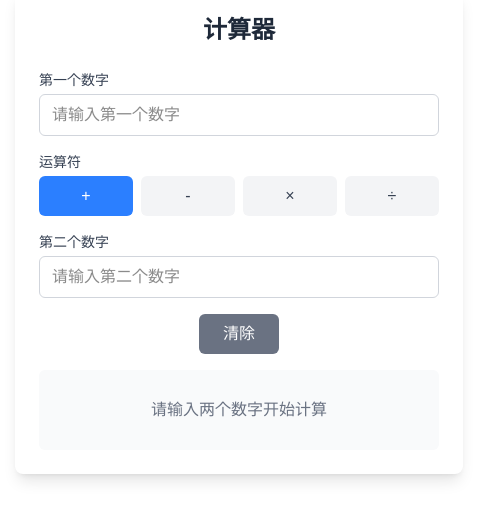
Test: Calculator Component › 应该能够实时执行乘法运算
Type "5" into the number field with placeholder "请输入第一个数字".
click(239, 115); type("5")  # box [39,94,439,136]
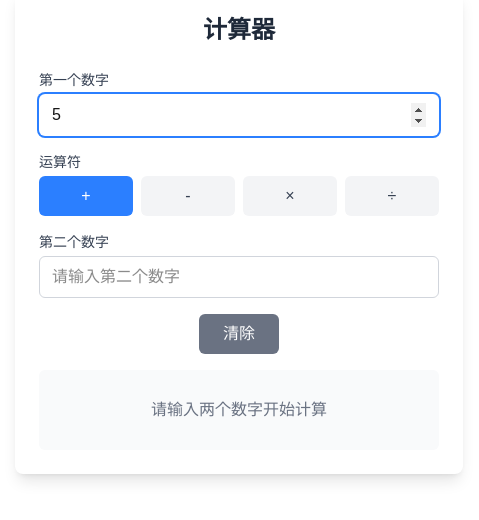
Click the button "×".
click(290, 196)  # box [243,176,337,216]
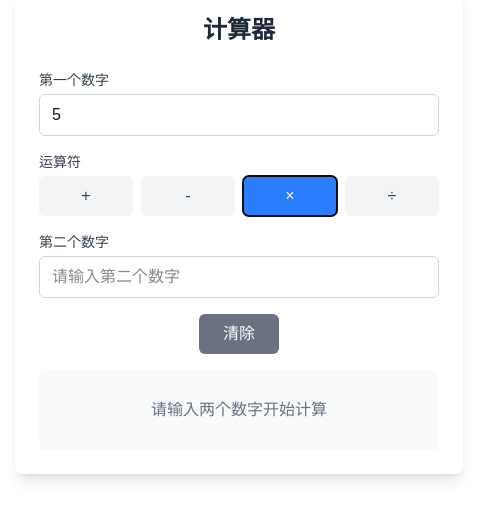
Type "3" into the number field with placeholder "请输入第二个数字".
click(239, 277); type("3")  # box [39,256,439,298]
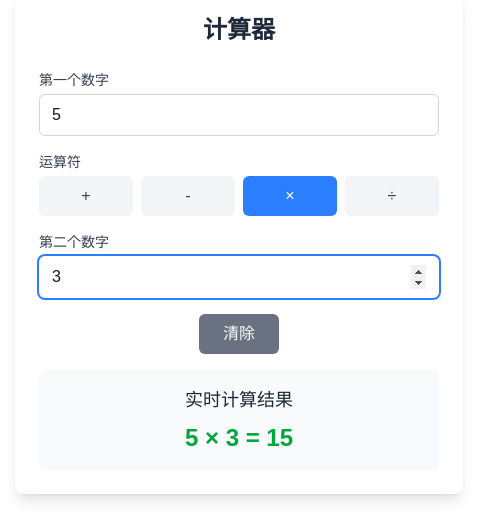
Check: the text "5 × 3 = 15" is shown, box [185,422,293,454]
